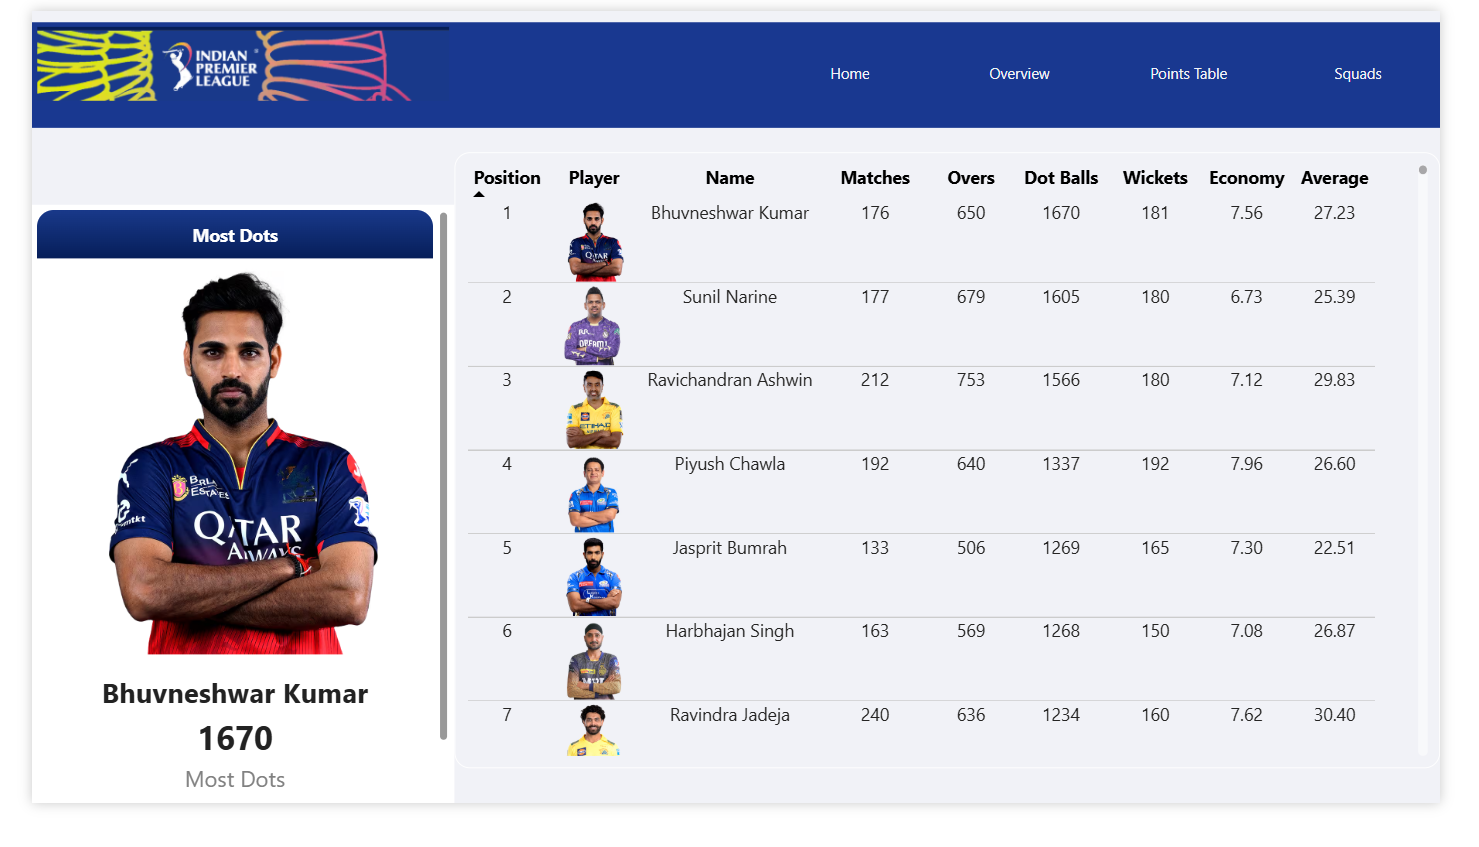

Layout of this report page (visuals, bound fields, positions):
{"tool":"powerbi","page":{"name":"Most Dots","canvas":[1280,720],"ordinal":5},"visuals":[{"type":"shape","box":[0,10,1280,96],"z":0},{"type":"pageNavigator","box":[672,32,608,48],"z":1000},{"type":"htmlContent443BE3AD55E043BF878BED274D3A6855","fields":{"content":["Records.Top_Players"]},"box":[0,176,384,544],"z":2000},{"type":"image","box":[0,0,384,96],"z":3000},{"type":"tableEx","fields":{"Values":["MostDots.Position","MostDots.IMG","MostDots.Name","Sum(MostDots.Mat)","Sum(MostDots.Ov)","Sum(MostDots.Dots)","Sum(MostDots.Wickets)","Sum(MostDots.ECO)","Sum(MostDots.Avg)"]},"box":[384,128,896,560],"z":4000}]}

Visuals, with their boxes on the page's 1280x720 design canvas (x1, y1, x2, y2). These are canvas units, not pixel positions in the 1479x847 screenshot, which may show the page scaled, cropped or inside an application window:
shape: [x1=0, y1=10, x2=1280, y2=106]
pageNavigator: [x1=672, y1=32, x2=1280, y2=80]
htmlContent443BE3AD55E043BF878BED274D3A6855 - Records.Top_Players: [x1=0, y1=176, x2=384, y2=720]
image: [x1=0, y1=0, x2=384, y2=96]
tableEx - MostDots.Position x MostDots.IMG: [x1=384, y1=128, x2=1280, y2=688]
